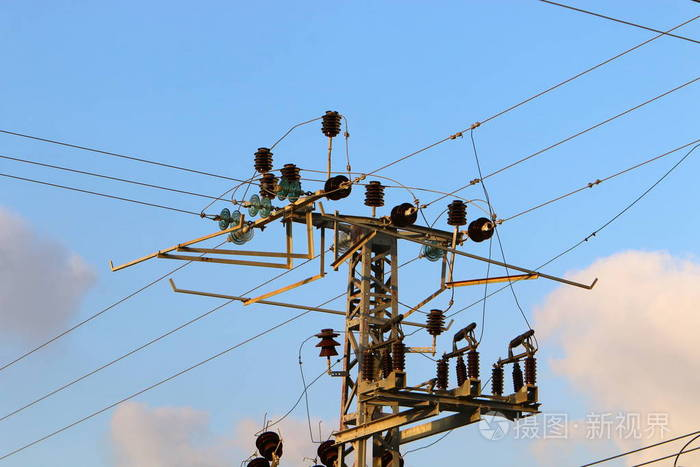insulator: (245, 193, 275, 222), (278, 179, 303, 203), (216, 208, 242, 229), (228, 225, 252, 247), (424, 241, 445, 261)
